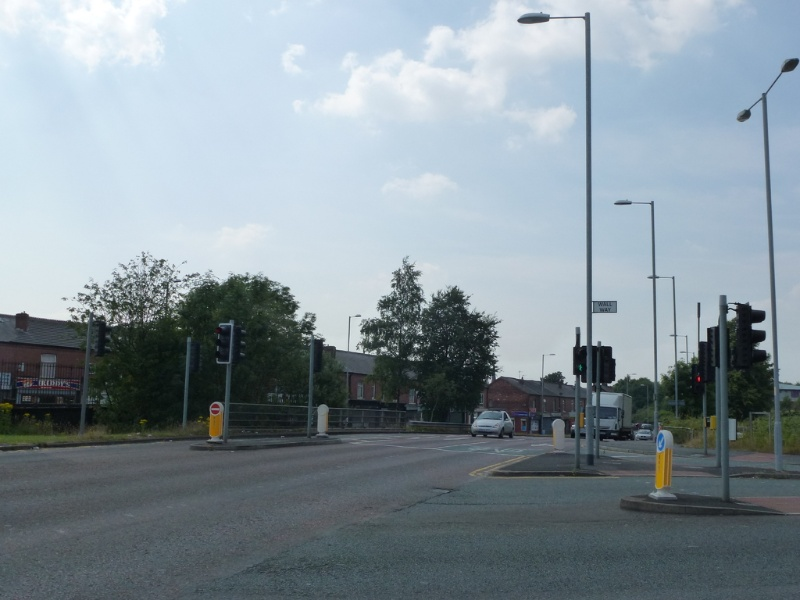no_entry: (209, 403, 221, 415)
